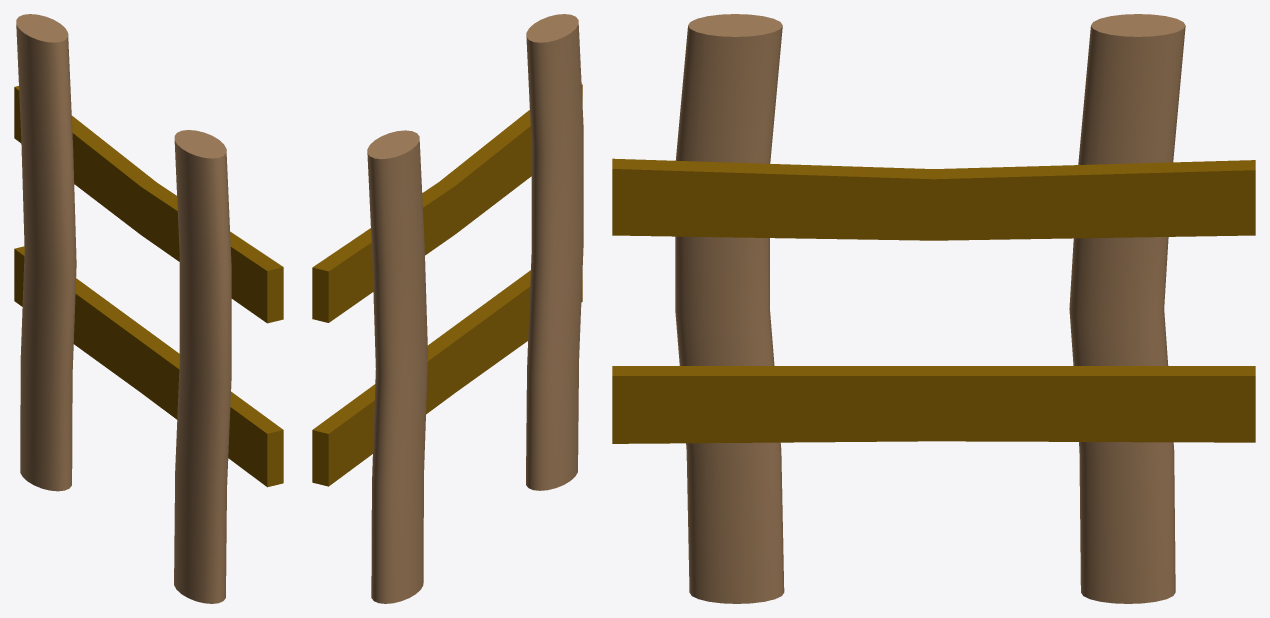
The model's file is fence.fbx.
The picture shows the model from 3 angles, left to right: view 1: azimuth 30°, elevation 25°; view 2: azimuth 150°, elevation 25°; view 3: azimuth 270°, elevation 25°; orthographic projection. The views are drawn at different scales.
Visible parts, largest first — view 1: pCylinder2, pCylinder1, pCube2, pCube1; view 2: pCylinder1, pCylinder2, pCube2, pCube1; view 3: pCube2, pCube1, pCylinder2, pCylinder1.
Part boxes in pixels (left/top/right/bottom): pCylinder2: left=16, top=14, right=76, bottom=491; pCylinder1: left=174, top=130, right=231, bottom=603; pCube2: left=14, top=246, right=283, bottom=487; pCube1: left=14, top=86, right=283, bottom=323; pCylinder1: left=526, top=14, right=583, bottom=490; pCylinder2: left=367, top=130, right=427, bottom=603; pCube2: left=312, top=270, right=582, bottom=486; pCube1: left=312, top=84, right=582, bottom=322; pCube2: left=612, top=366, right=1255, bottom=443; pCube1: left=612, top=158, right=1255, bottom=240; pCylinder2: left=1069, top=14, right=1185, bottom=603; pCylinder1: left=675, top=14, right=784, bottom=603.
Bounding box in the file's own units: 0.9343 × 7.49 × 7.7.
